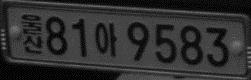1: (69, 18, 92, 58)
3: (205, 26, 229, 67)
5: (153, 23, 177, 63)
8: (179, 24, 203, 65), (45, 15, 67, 55)
9: (126, 21, 150, 62)
아: (94, 20, 118, 58)
울산_V: (20, 13, 44, 54)
